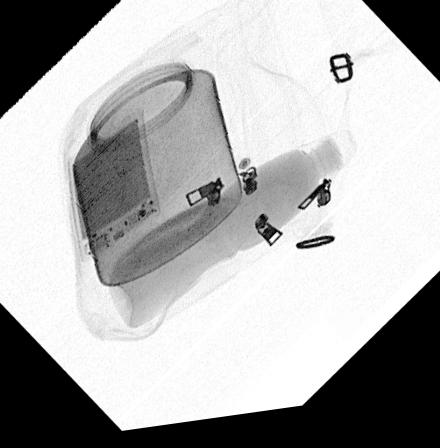Powerbank: (65, 113, 158, 265)
